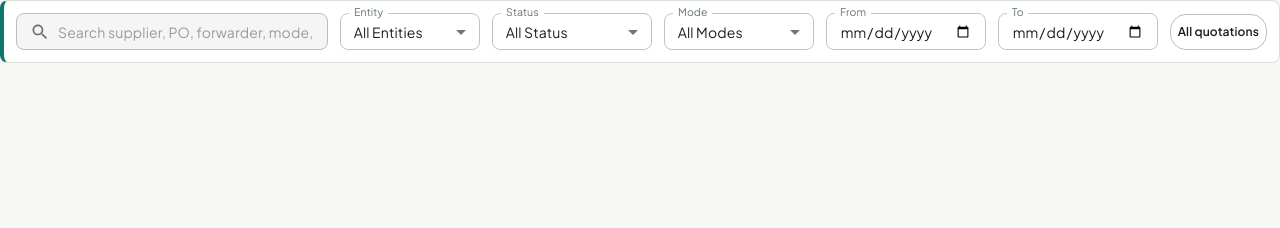
Test case: SearchFilter › renders entity dropdown with options
Click the dropdown "All Entities": click(388, 32) top-left (354, 22), bottom-right (423, 40)
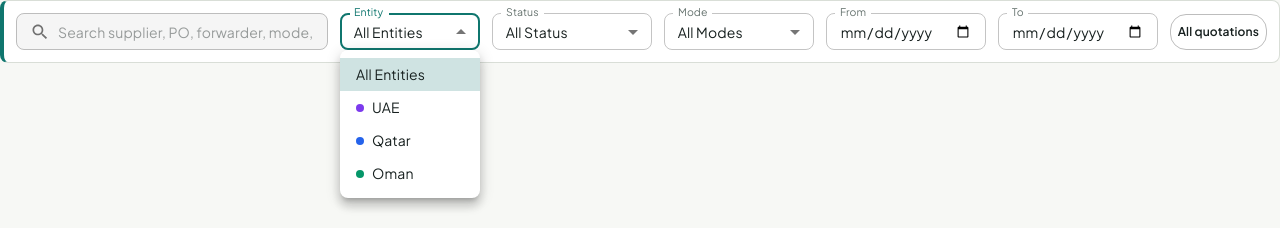
Now the option "UAE" is shown, box top-left (356, 98), bottom-right (400, 116)
Now the option "Qatar" is shown, box top-left (356, 131), bottom-right (411, 149)
